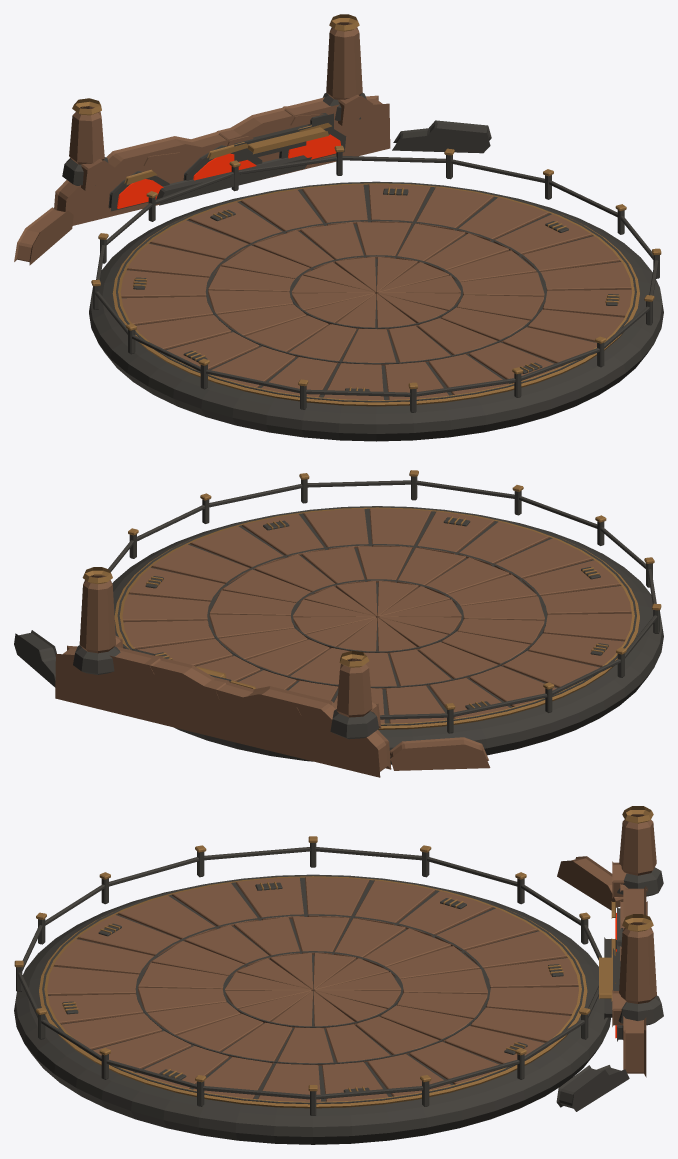
Rendered from kiln_reliquary_arena.glb.
The picture shows the model from 3 angles, top to bottom: view 1: azimuth 30°, elevation 25°; view 2: azimuth 150°, elevation 25°; view 3: azimuth 270°, elevation 25°; orthographic projection. The views are drawn at different scales.
Parts seen in each view (by area): view 1: turntable_refractory_brick_static, turntable_sooted_foundry_iron_static, kiln_facility_refractory_brick_static, perimeter_rail_sooted_foundry_iron_static, kiln_facility_sooted_foundry_iron_static, turntable_oxidized_brass_static, kiln_facility_oxidized_brass_static, kiln_facility_kiln_fire_static, perimeter_rail_oxidized_brass_static, exhaust_array_sooted_foundry_iron_static; view 2: turntable_refractory_brick_static, kiln_facility_refractory_brick_static, turntable_sooted_foundry_iron_static, perimeter_rail_sooted_foundry_iron_static, kiln_facility_sooted_foundry_iron_static, turntable_oxidized_brass_static, kiln_facility_oxidized_brass_static, exhaust_array_sooted_foundry_iron_static, perimeter_rail_oxidized_brass_static, exhaust_array_oxidized_brass_static; view 3: turntable_refractory_brick_static, turntable_sooted_foundry_iron_static, kiln_facility_refractory_brick_static, perimeter_rail_sooted_foundry_iron_static, turntable_oxidized_brass_static, kiln_facility_sooted_foundry_iron_static, kiln_facility_oxidized_brass_static, perimeter_rail_oxidized_brass_static, exhaust_array_sooted_foundry_iron_static, exhaust_array_oxidized_brass_static.
Part boxes in pixels (x1,y1,x2,y2): turntable_refractory_brick_static: [118, 183, 634, 400]; turntable_sooted_foundry_iron_static: [89, 181, 663, 441]; kiln_facility_refractory_brick_static: [14, 22, 390, 265]; perimeter_rail_sooted_foundry_iron_static: [93, 152, 659, 412]; kiln_facility_sooted_foundry_iron_static: [62, 92, 491, 211]; turntable_oxidized_brass_static: [112, 183, 639, 406]; kiln_facility_oxidized_brass_static: [72, 14, 359, 185]; kiln_facility_kiln_fire_static: [117, 134, 340, 208]; perimeter_rail_oxidized_brass_static: [91, 145, 661, 389]; exhaust_array_sooted_foundry_iron_static: [133, 188, 618, 391]; turntable_refractory_brick_static: [120, 508, 634, 723]; kiln_facility_refractory_brick_static: [55, 574, 490, 777]; turntable_sooted_foundry_iron_static: [112, 506, 663, 764]; perimeter_rail_sooted_foundry_iron_static: [108, 476, 659, 733]; kiln_facility_sooted_foundry_iron_static: [14, 630, 379, 739]; turntable_oxidized_brass_static: [114, 507, 639, 729]; kiln_facility_oxidized_brass_static: [82, 567, 369, 689]; exhaust_array_sooted_foundry_iron_static: [145, 517, 608, 709]; perimeter_rail_oxidized_brass_static: [128, 470, 661, 709]; exhaust_array_oxidized_brass_static: [146, 516, 608, 708]; turntable_refractory_brick_static: [45, 876, 581, 1101]; turntable_sooted_foundry_iron_static: [14, 874, 610, 1144]; kiln_facility_refractory_brick_static: [557, 814, 656, 1077]; perimeter_rail_sooted_foundry_iron_static: [16, 843, 601, 1115]; turntable_oxidized_brass_static: [39, 876, 587, 1108]; kiln_facility_sooted_foundry_iron_static: [556, 867, 663, 1111]; kiln_facility_oxidized_brass_static: [599, 806, 653, 1001]; perimeter_rail_oxidized_brass_static: [14, 836, 590, 1091]; exhaust_array_sooted_foundry_iron_static: [62, 882, 563, 1092]; exhaust_array_oxidized_brass_static: [62, 881, 563, 1091].
Bounding box in the file's own units: 15.16 × 4.74 × 16.47.
